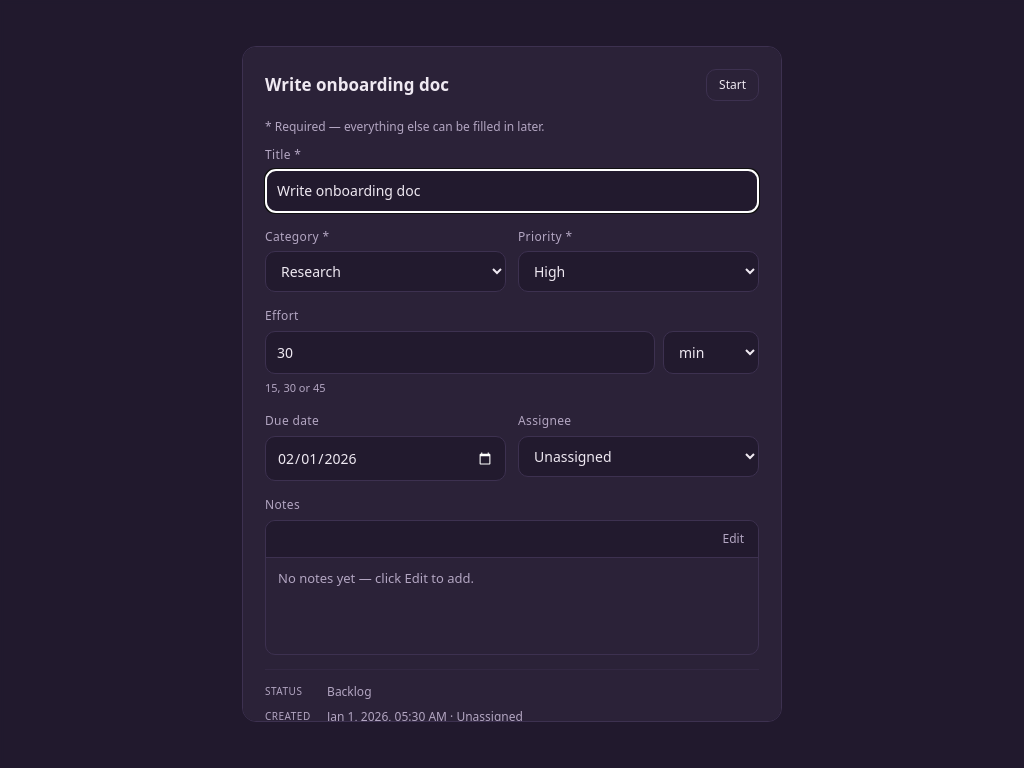
Scenario: ItemFormModal — create/save submission › shows the special conflict message on a 409 (stale edit) rather than the raw server message
Type "!" into the field labelled "Title *" at (512, 191), box [265, 170, 759, 213]
(page scrolled)
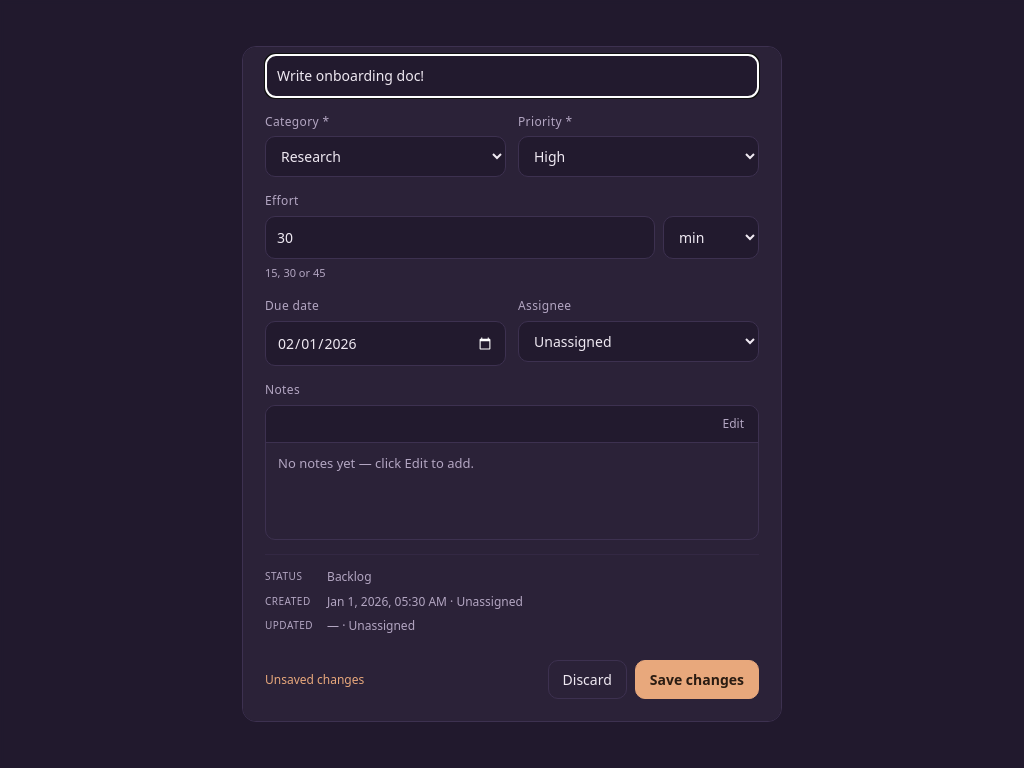
Click the button "Save changes" at (697, 680), box [635, 660, 759, 699]
(page scrolled)
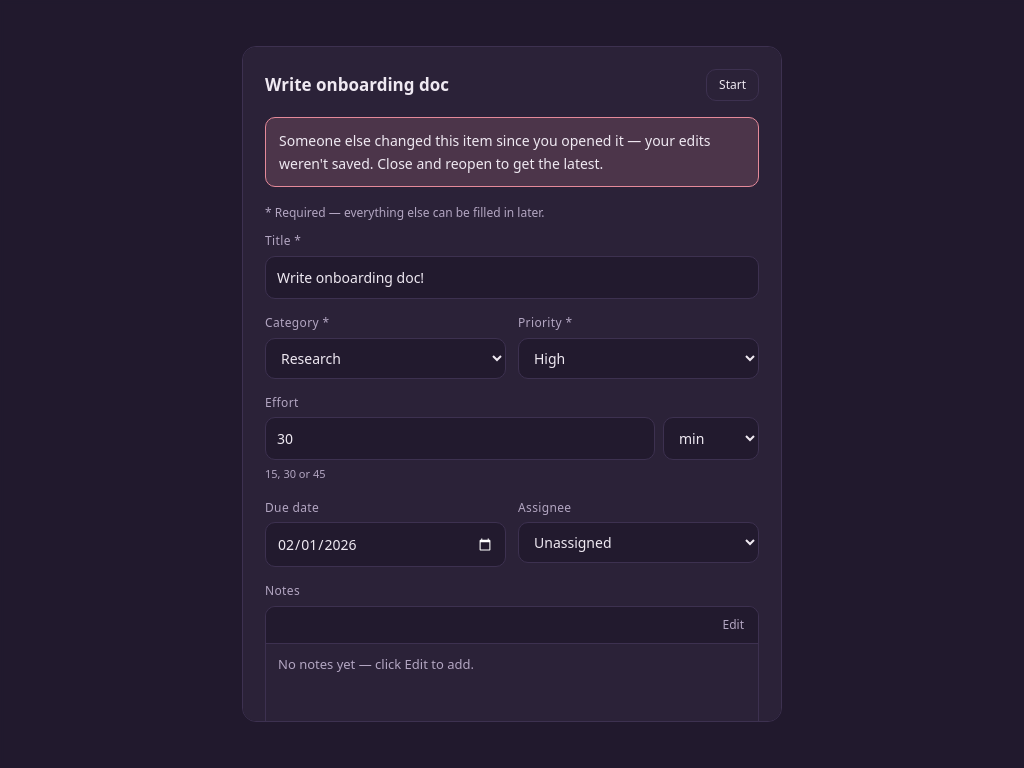
Check: the text "Someone else changed this item" is shown, box [279, 131, 711, 173]
